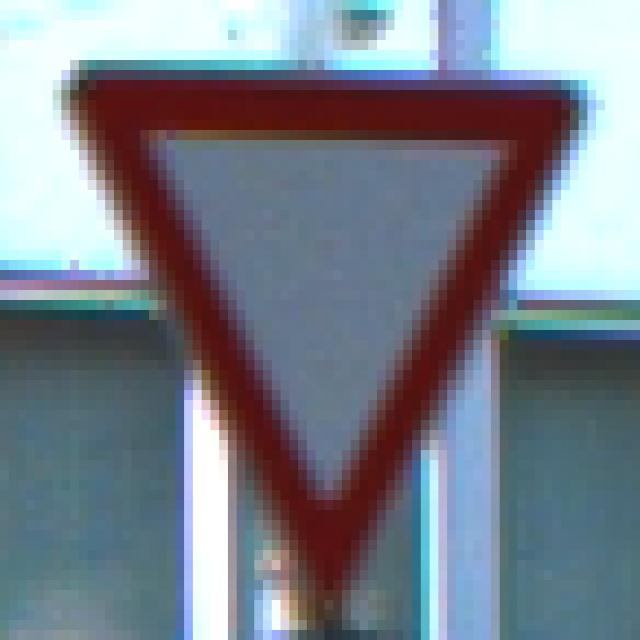Give Way: (63, 51, 589, 591)
